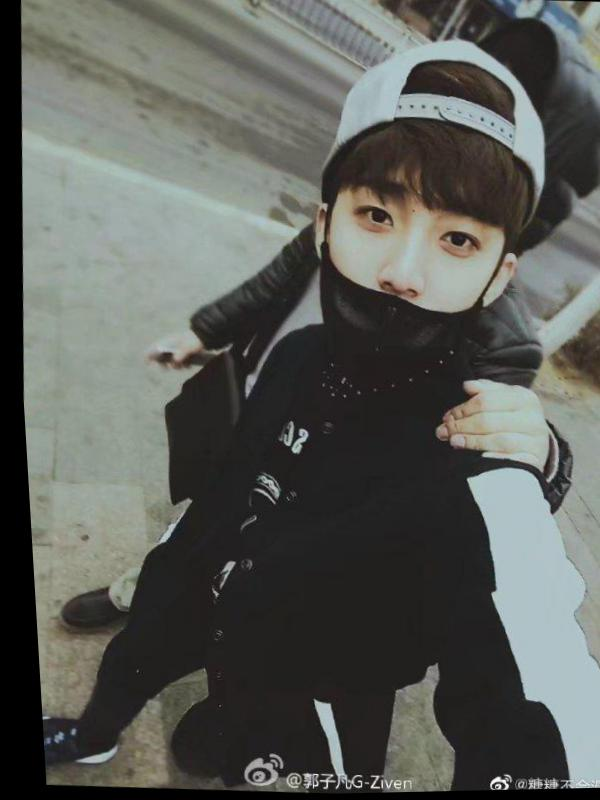WRONG: (306, 163, 510, 395)
